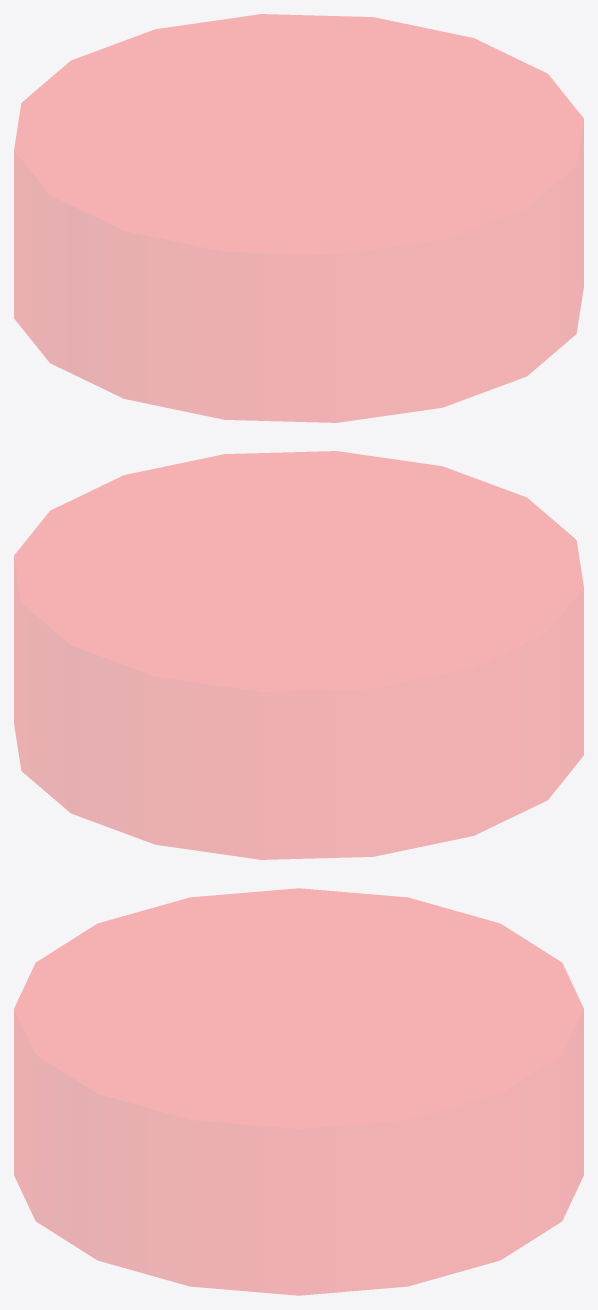
The model's file is s01a_ic3-obstacles.glb.
The picture shows the model from 3 angles, top to bottom: view 1: azimuth 30°, elevation 25°; view 2: azimuth 150°, elevation 25°; view 3: azimuth 270°, elevation 25°; orthographic projection.
Visible parts, largest first — view 1: boulder-colonly; view 2: boulder-colonly; view 3: boulder-colonly.
Boxes of the visible parts, x1,y1,x2,y2 form: boulder-colonly: [14, 14, 583, 422]; boulder-colonly: [14, 451, 583, 859]; boulder-colonly: [14, 888, 583, 1295].
Size of the model in its own units: 6.2 by 2 by 6.2.
